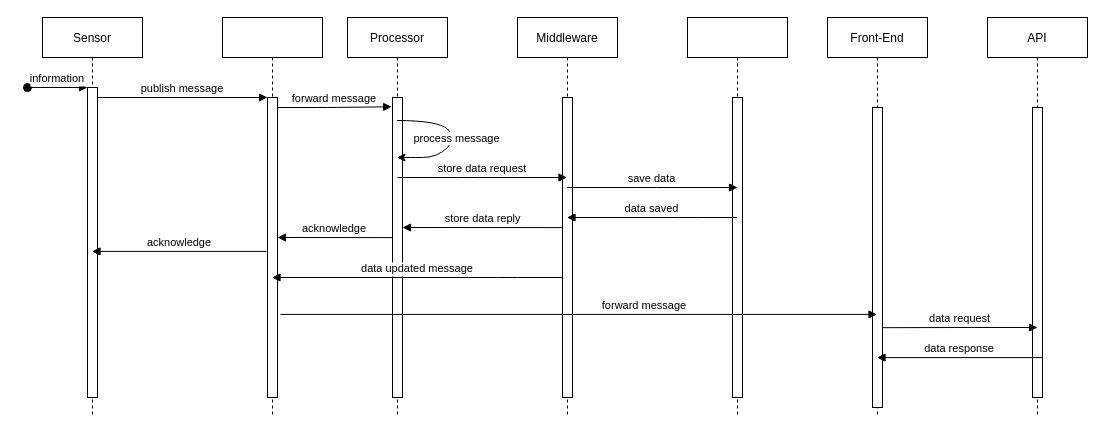
Some shapes in this 1105 by 435 pixel diagram are drawn without their labels. Here are the shapes that lost their labels. From the top down, the box of each, then its label:
(222, 16, 322, 418): Message Queue
(686, 16, 788, 418): MongoDB
